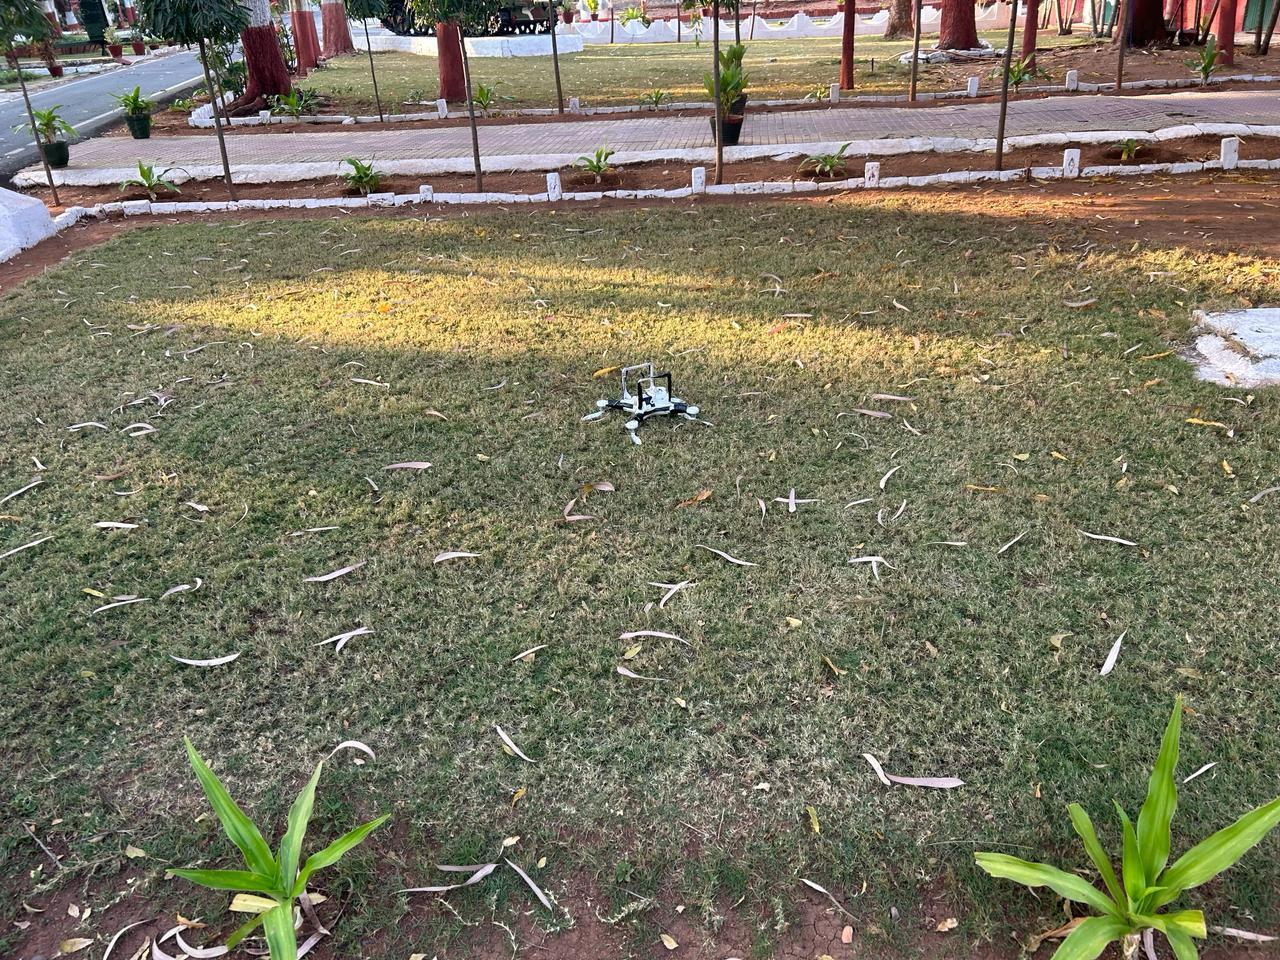drone: (548, 335, 753, 464)
